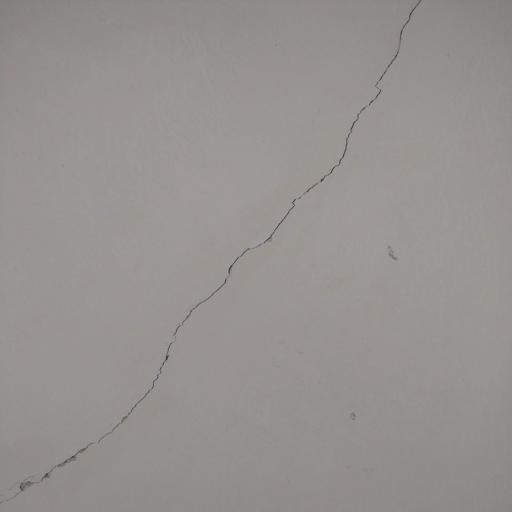minor_crack: (3, 0, 429, 512)
